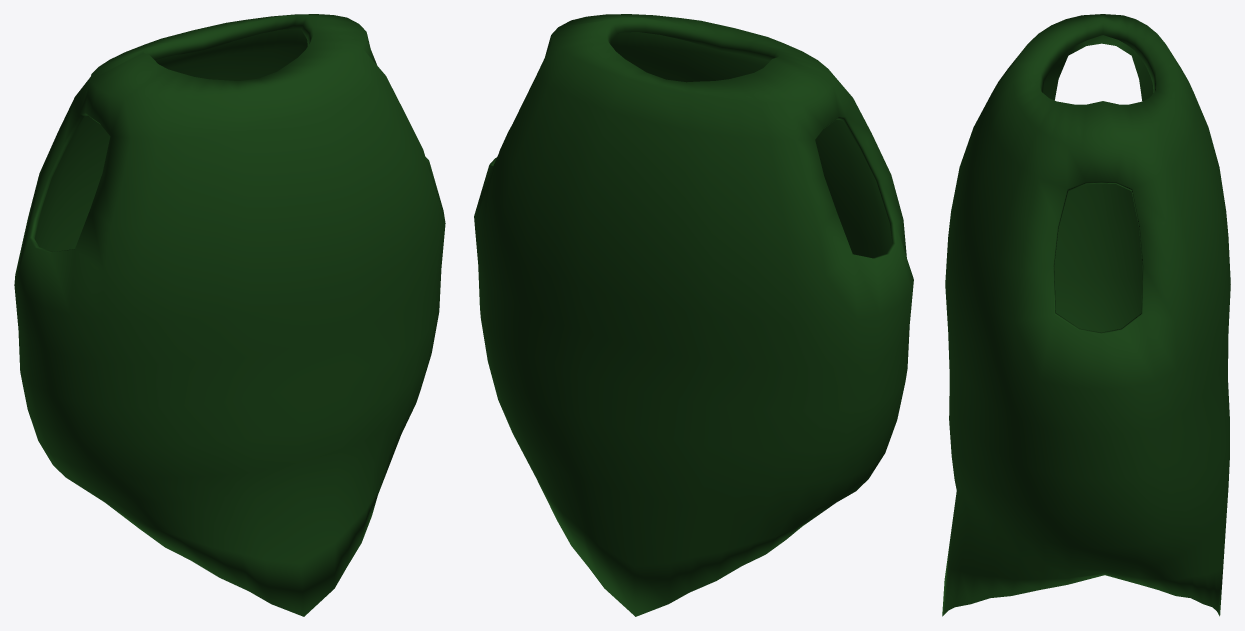
The model's file is pechera.fbx.
3 views of the same model, side by side, from view 1: azimuth 30°, elevation 25°; view 2: azimuth 150°, elevation 25°; view 3: azimuth 270°, elevation 25° (orthographic). The views are drawn at different scales.
Visible parts, largest first — view 1: Sphere; view 2: Sphere; view 3: Sphere.
Boxes of the visible parts, x1,y1,x2,y2 form: Sphere: (14, 14, 445, 616); Sphere: (474, 14, 913, 616); Sphere: (942, 14, 1230, 616).
Size of the model in its own units: 196 by 243 by 114.
